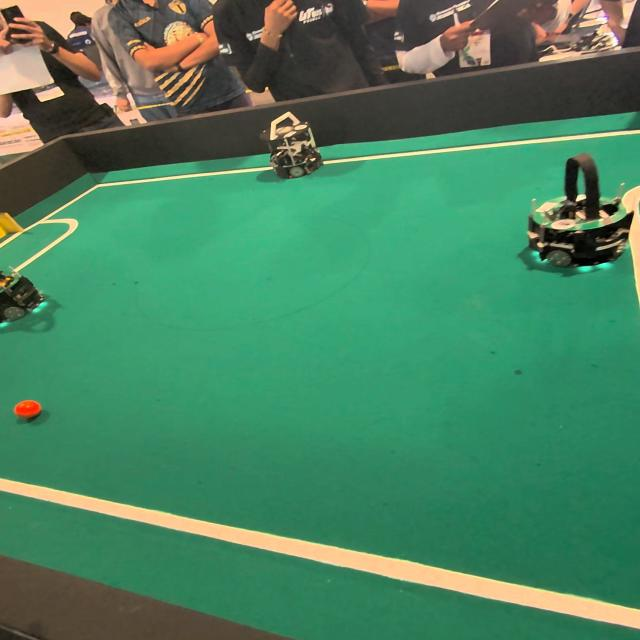Robot: (518, 143, 636, 284), (264, 108, 328, 183)
pelota: (15, 398, 43, 422)
